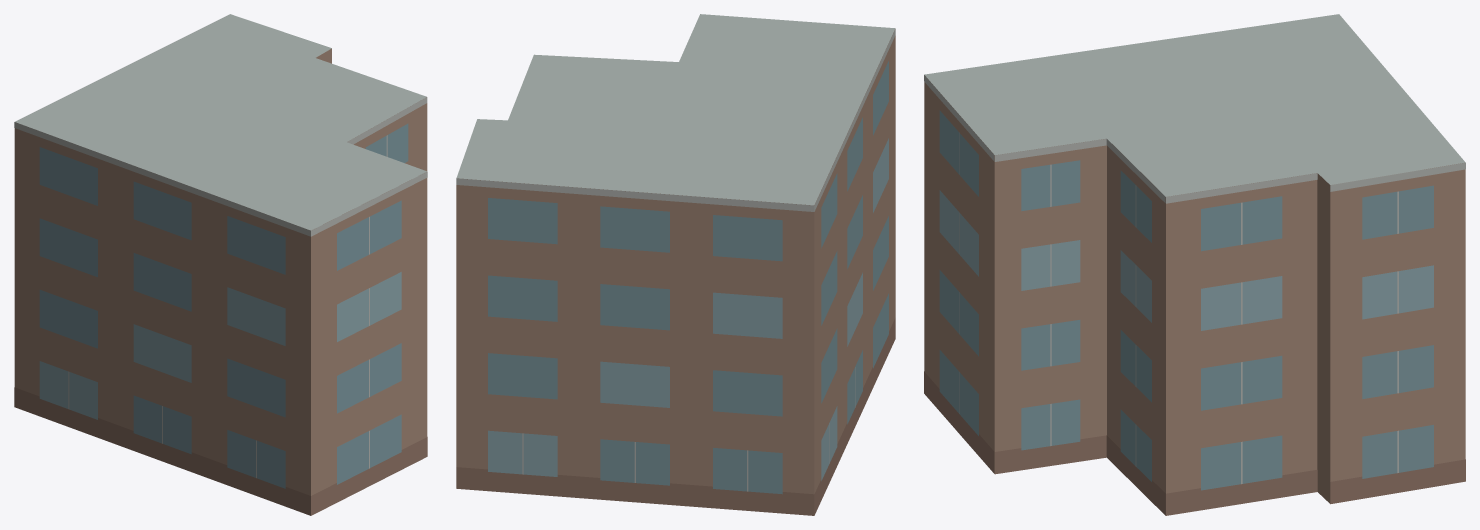
Rendered from survey-upis-32856163.glb.
3 views of the same model, side by side, from view 1: azimuth 30°, elevation 25°; view 2: azimuth 150°, elevation 25°; view 3: azimuth 270°, elevation 25° (orthographic). The views are drawn at different scales.
Visible parts, largest first — view 1: survey-upis-32856163.tmp; view 2: survey-upis-32856163.tmp; view 3: survey-upis-32856163.tmp.
Boxes of the visible parts, left/top/right/bottom form: survey-upis-32856163.tmp: left=14, top=14, right=427, bottom=515; survey-upis-32856163.tmp: left=456, top=14, right=895, bottom=515; survey-upis-32856163.tmp: left=924, top=14, right=1465, bottom=515.
Bounding box in the file's own units: 14 × 11.38 × 17.52.
